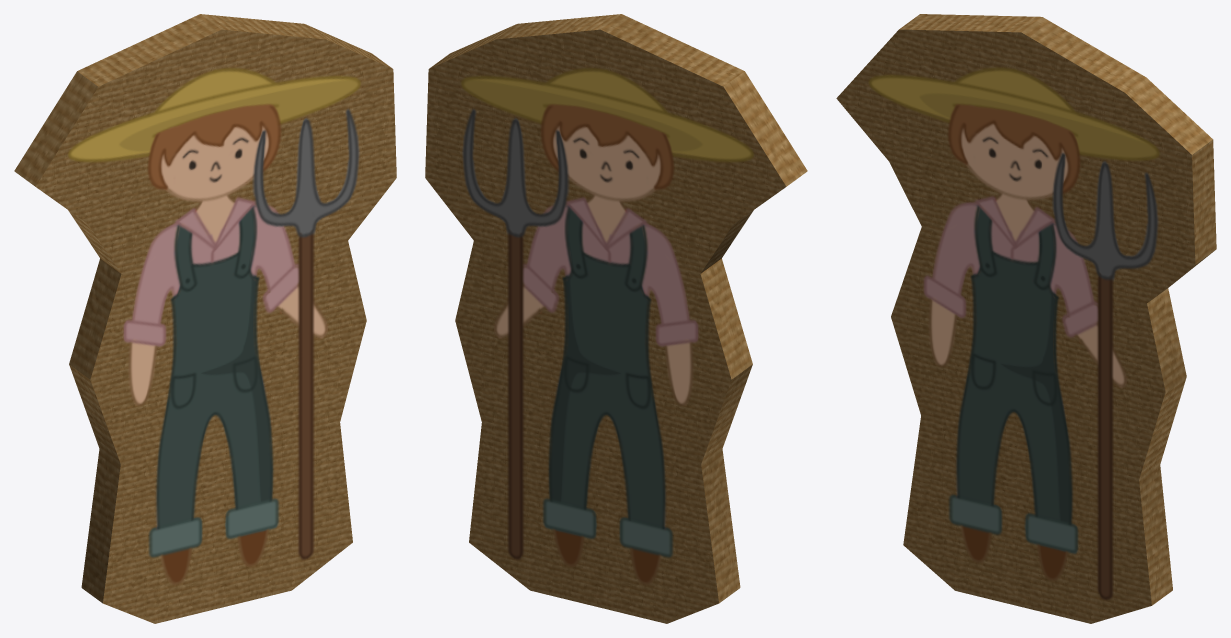
The model's file is Char_Farmer_02.fbx.
The picture shows the model from 3 angles, left to right: view 1: azimuth 30°, elevation 25°; view 2: azimuth 150°, elevation 25°; view 3: azimuth 330°, elevation 25°; orthographic projection.
Visible parts, largest first — view 1: Farmer_02; view 2: Farmer_02; view 3: Farmer_02.
Part boxes in pixels (left/top/right/bottom): Farmer_02: left=14, top=14, right=396, bottom=623; Farmer_02: left=425, top=14, right=807, bottom=623; Farmer_02: left=836, top=14, right=1216, bottom=623.
Size of the model in its own units: 0.5433 by 0.8306 by 0.0556.
